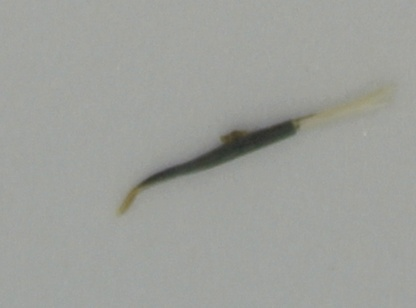เมล็ดงอกแตก: (111, 80, 396, 220)
